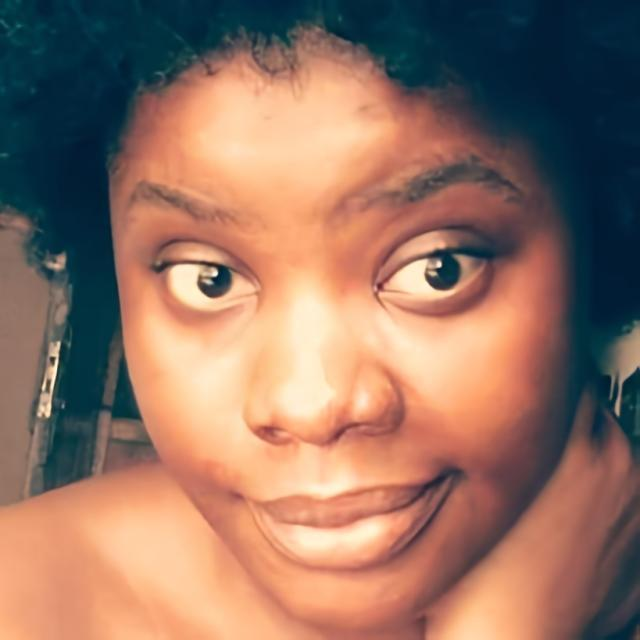surprise: (106, 16, 594, 634)
